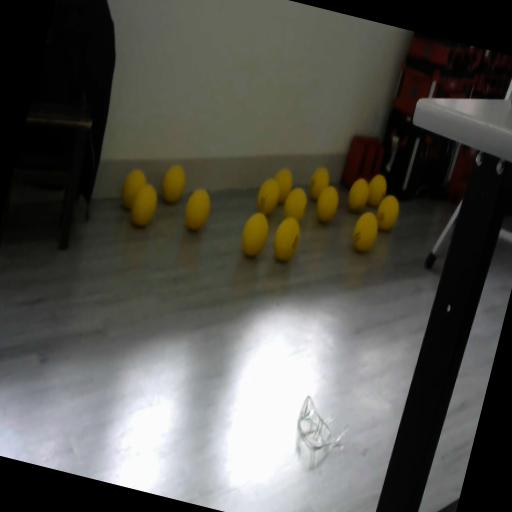FUEL: (236, 208, 274, 260), (268, 212, 305, 264), (180, 186, 214, 234), (348, 208, 382, 256), (117, 165, 150, 213), (158, 162, 189, 206), (280, 184, 310, 225), (312, 183, 342, 224), (372, 193, 402, 234), (268, 165, 296, 206), (363, 171, 391, 210), (344, 176, 372, 215), (310, 165, 330, 191)
